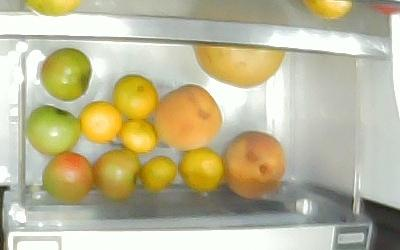peach: (151, 82, 222, 151), (220, 129, 286, 199)
pear: (192, 48, 285, 87)
tangerine: (176, 145, 225, 193), (110, 73, 159, 120), (76, 99, 122, 143), (137, 154, 177, 192), (118, 117, 157, 153)
tomato: (38, 46, 92, 101), (25, 104, 81, 156), (40, 149, 93, 203), (91, 147, 142, 200)
